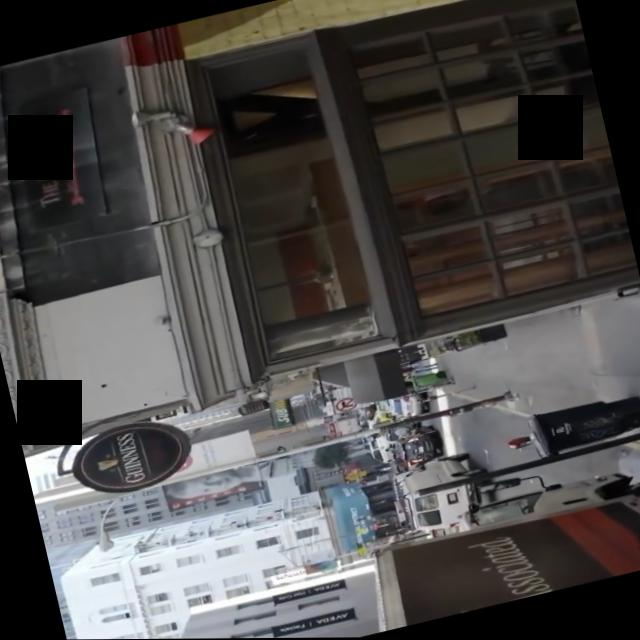Building: (0, 0, 640, 453)
Pole: (82, 389, 528, 556), (410, 424, 640, 500)
Vehicle: (361, 456, 640, 631), (384, 447, 494, 539), (387, 423, 446, 472), (386, 388, 434, 428)
